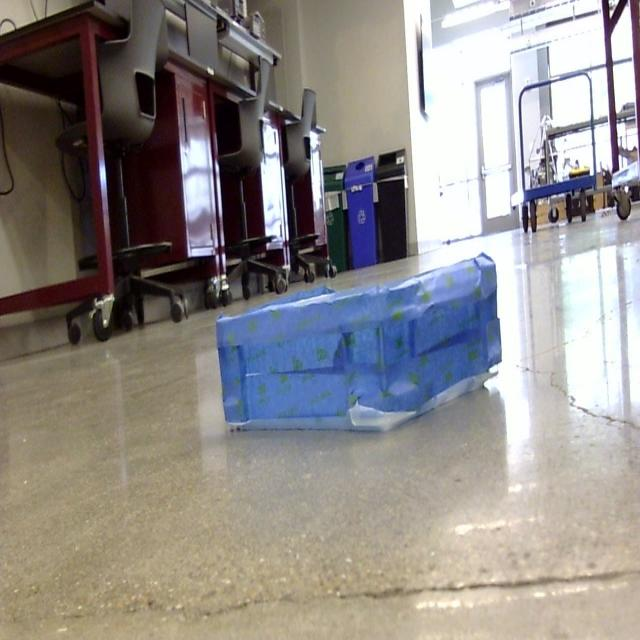bucket: (215, 254, 502, 435)
